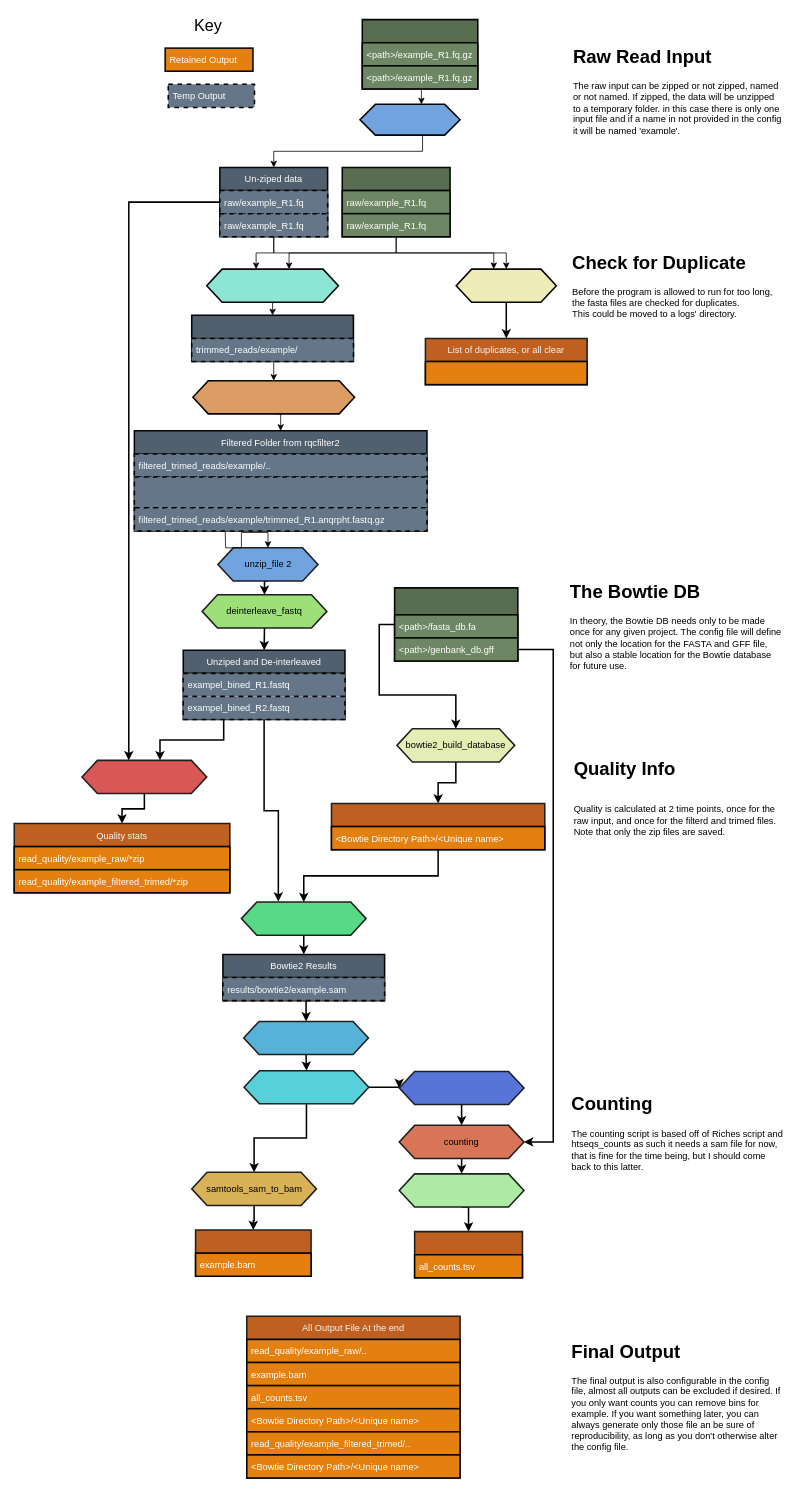
This 801x1491 diagram has some shape labels left out. The shapes that lost their labels are listed below. From the top down, each one's box as (x1, y1, x2, y2) in pixels, then its label:
(361, 18, 478, 89): Gziped input
(359, 103, 460, 136): unzip_file 1
(341, 166, 450, 237): Not ziped input
(206, 268, 339, 303): bbduk_trim_reads
(455, 268, 557, 303): check_dups_fasta
(191, 314, 354, 362): bbduk Output
(424, 360, 588, 385): duplicate_names_note.txt
(192, 380, 355, 414): rqcfilter2_filter_reads
(133, 476, 427, 508): filtered_trimed_reads/example/RNA.fq.gz
(393, 587, 518, 661): Data For Bowtie DB
(81, 759, 207, 794): fastqc_get_quality
(330, 802, 545, 850): Bowtie Database
(240, 901, 367, 936): bowtie2_map
(243, 1020, 369, 1055): reformat_sam
(243, 1070, 369, 1104): samtools_sam_sort
(398, 1070, 524, 1105): rich_script_sam_file
(398, 1173, 524, 1207): join_counting
(194, 1229, 311, 1277): Bam for each Input
(413, 1230, 523, 1278): Counts for all inputs
